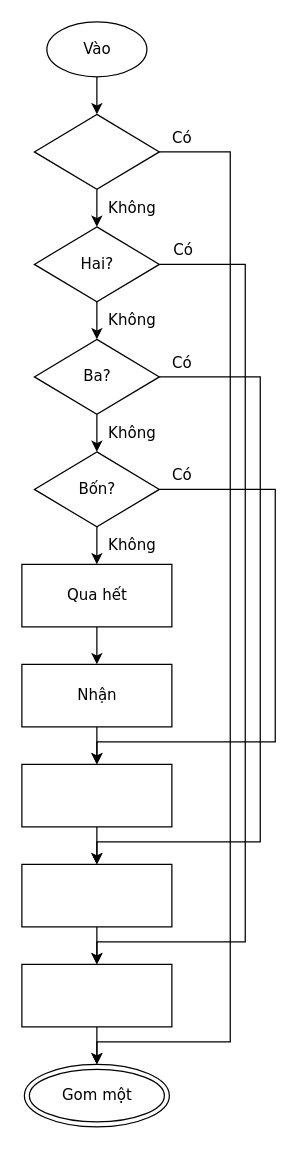
Some shapes in this 308 by 1149 pixel diagram are drawn without their labels. Here are the shapes that lost their labels. From the top down, the box of each, then its label:
(33, 113, 159, 189): Một?
(21, 763, 172, 827): Gom bốn
(21, 863, 172, 927): Gom ba
(21, 963, 172, 1027): Gom hai
